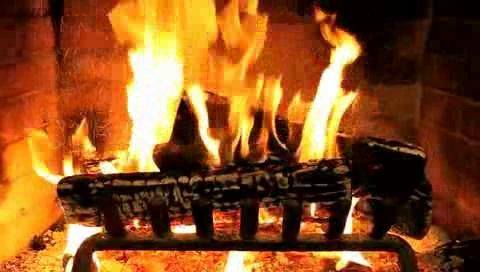fire: (13, 0, 480, 184)
